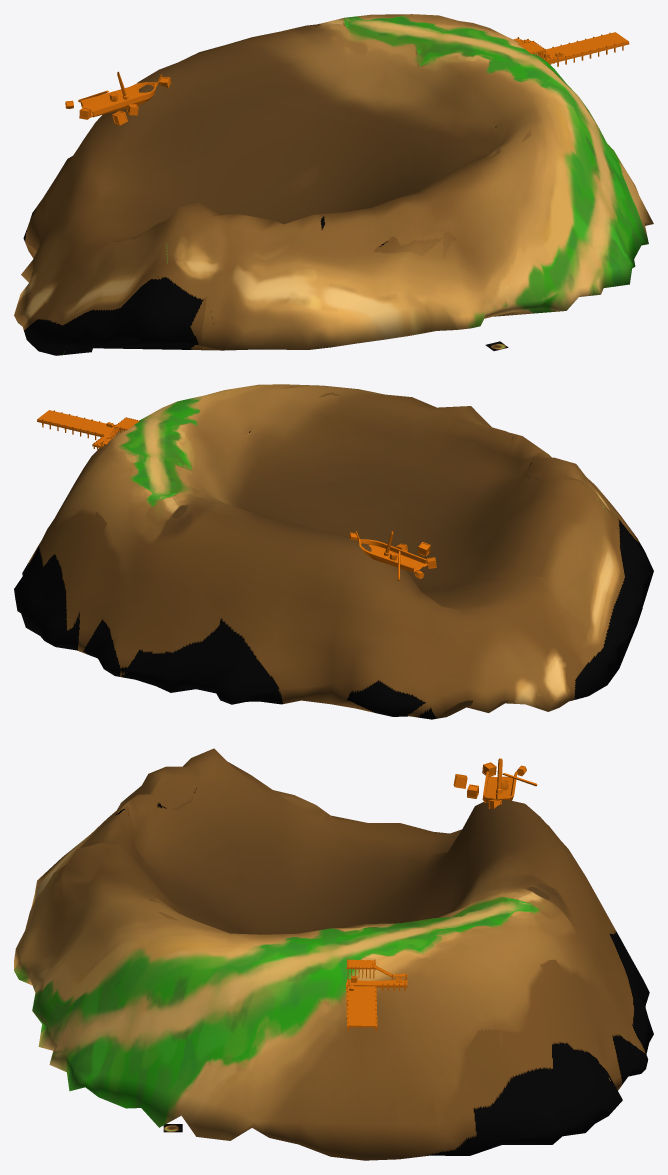
File: Ababord_ile_earlly_2.fbx
The picture shows the model from 3 angles, top to bottom: view 1: azimuth 30°, elevation 25°; view 2: azimuth 150°, elevation 25°; view 3: azimuth 270°, elevation 25°; orthographic projection. The views are drawn at different scales.
Visible parts, largest first — view 1: Early_1_Mesh, Epave, Ponton; view 2: Early_1_Mesh, Epave, Ponton; view 3: Early_1_Mesh, Ponton, Epave.
Boxes of the visible parts, x1,y1,x2,y2 form: Early_1_Mesh: [14, 14, 653, 355]; Epave: [65, 71, 162, 125]; Ponton: [513, 32, 629, 66]; Early_1_Mesh: [14, 384, 653, 719]; Epave: [355, 531, 436, 580]; Ponton: [37, 410, 141, 449]; Early_1_Mesh: [14, 748, 653, 1160]; Ponton: [346, 958, 407, 1031]; Epave: [453, 758, 537, 802].
Size of the model in its own units: 7964 by 2827 by 6678.
